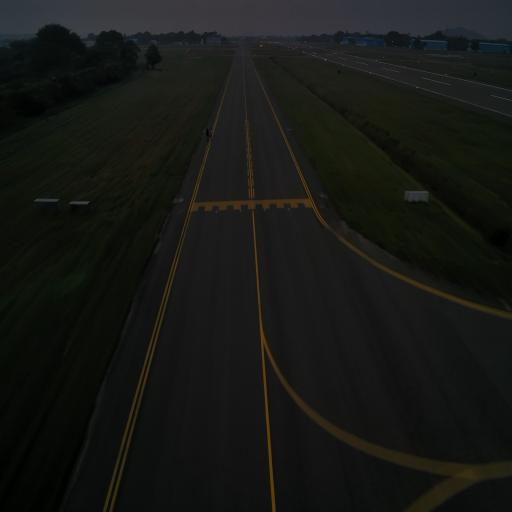off: (263, 206, 266, 213), (215, 208, 218, 214), (239, 208, 242, 214), (287, 206, 290, 211)
on: (320, 190, 323, 196), (180, 194, 182, 200), (204, 127, 206, 131), (288, 125, 289, 130)
